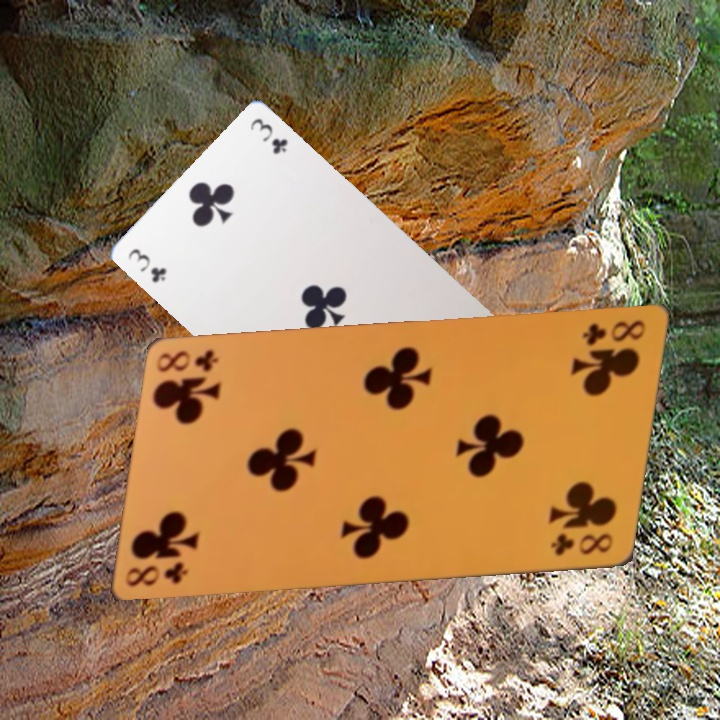3c: (240, 109, 295, 161), (118, 237, 173, 289)
8c: (155, 345, 233, 377), (122, 557, 200, 589), (578, 317, 656, 348), (545, 529, 623, 560)
